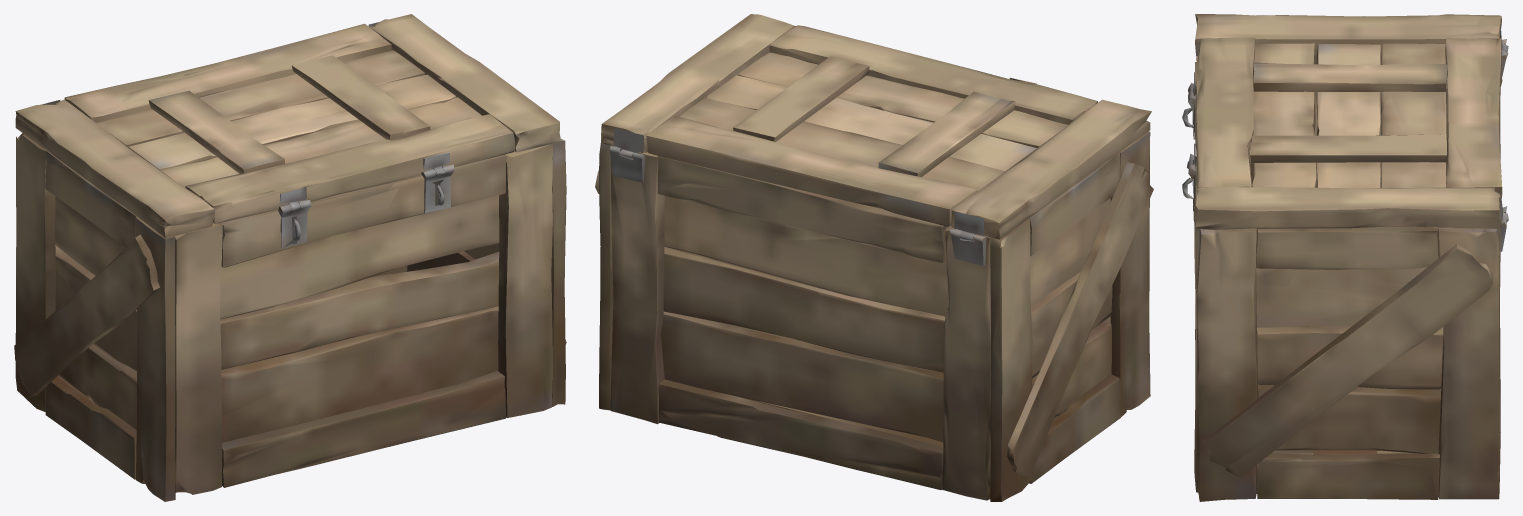
Rendered from StorageBox_Small_C.glb.
3 renders of one model, left to right at view 1: azimuth 30°, elevation 25°; view 2: azimuth 150°, elevation 25°; view 3: azimuth 270°, elevation 25°, orthographic.
Parts seen in each view (by area): view 1: SM_Storage_S; view 2: SM_Storage_S; view 3: SM_Storage_S.
Part boxes in pixels (left/top/right/bottom): SM_Storage_S: left=14, top=14, right=566, bottom=501; SM_Storage_S: left=595, top=14, right=1153, bottom=501; SM_Storage_S: left=1182, top=14, right=1508, bottom=501.
Size of the model in its own units: 0.6681 by 0.447 by 0.4498.
1 material, 1 textured.
